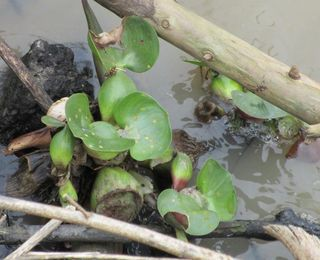water_hyacinth: (44, 22, 253, 244)
